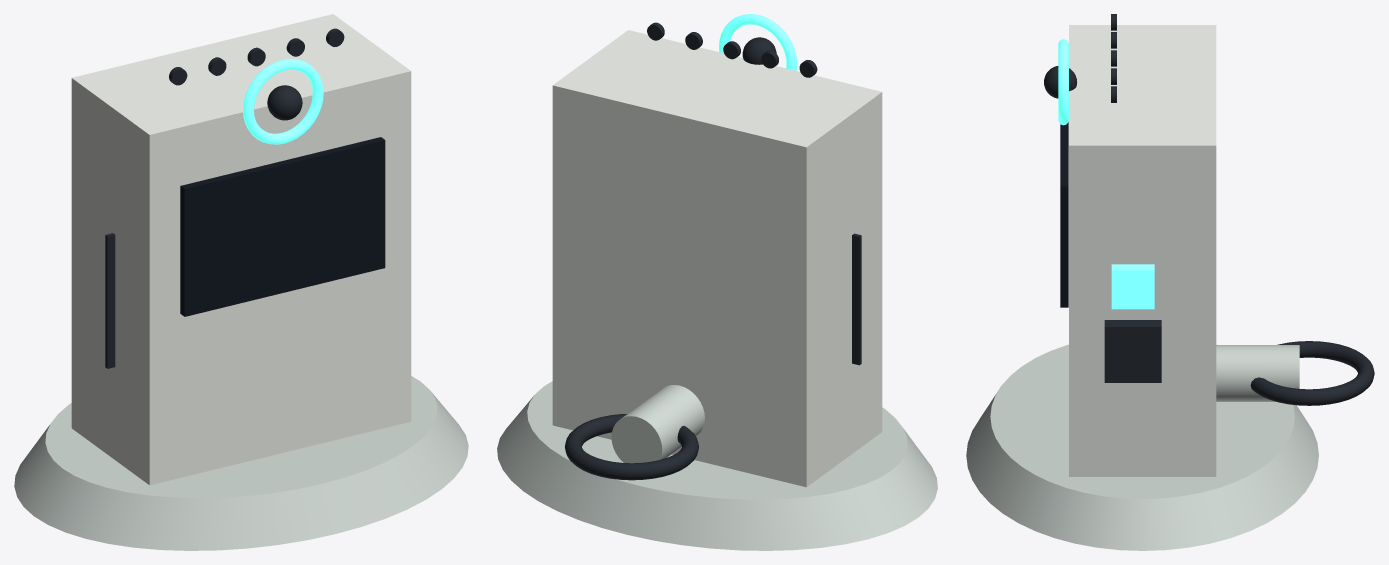
Rendered from lumadock-ai-companion.glb.
3 views of the same model, side by side, from view 1: azimuth 30°, elevation 25°; view 2: azimuth 150°, elevation 25°; view 3: azimuth 270°, elevation 25° (orthographic). The views are drawn at different scales.
Parts seen in each view (by area): view 1: Main AI Dock Body, Weighted Desk Base, Front Expression Display, Sensor Halo, Center Camera Lens; view 2: Main AI Dock Body, Weighted Desk Base, Rear Cable Dock, Magnetic Cable Loop, Sensor Halo, Center Camera Lens; view 3: Main AI Dock Body, Weighted Desk Base, Rear Cable Dock, Side USB-C Port, Magnetic Cable Loop, Status Light Strip, Front Expression Display, Sensor Halo, Center Camera Lens.
Part boxes in pixels (left/top/right/bottom): Main AI Dock Body: left=71, top=14, right=411, bottom=485; Weighted Desk Base: left=14, top=376, right=468, bottom=550; Front Expression Display: left=180, top=137, right=385, bottom=316; Sensor Halo: left=243, top=58, right=323, bottom=144; Center Camera Lens: left=267, top=85, right=302, bottom=120; Main AI Dock Body: left=552, top=30, right=882, bottom=487; Weighted Desk Base: left=497, top=381, right=937, bottom=550; Rear Cable Dock: left=611, top=385, right=704, bottom=463; Magnetic Cable Loop: left=565, top=414, right=698, bottom=480; Sensor Halo: left=719, top=14, right=797, bottom=70; Center Camera Lens: left=742, top=37, right=776, bottom=64; Main AI Dock Body: left=1069, top=25, right=1216, bottom=476; Weighted Desk Base: left=966, top=344, right=1318, bottom=550; Rear Cable Dock: left=1216, top=345, right=1299, bottom=401; Side USB-C Port: left=1104, top=320, right=1161, bottom=382; Magnetic Cable Loop: left=1250, top=341, right=1374, bottom=405; Status Light Strip: left=1111, top=264, right=1154, bottom=309; Front Expression Display: left=1060, top=122, right=1068, bottom=307; Sensor Halo: left=1058, top=39, right=1068, bottom=125; Center Camera Lens: left=1044, top=66, right=1077, bottom=98.
Size of the model in its own units: 1.9 by 1.91 by 1.72.
